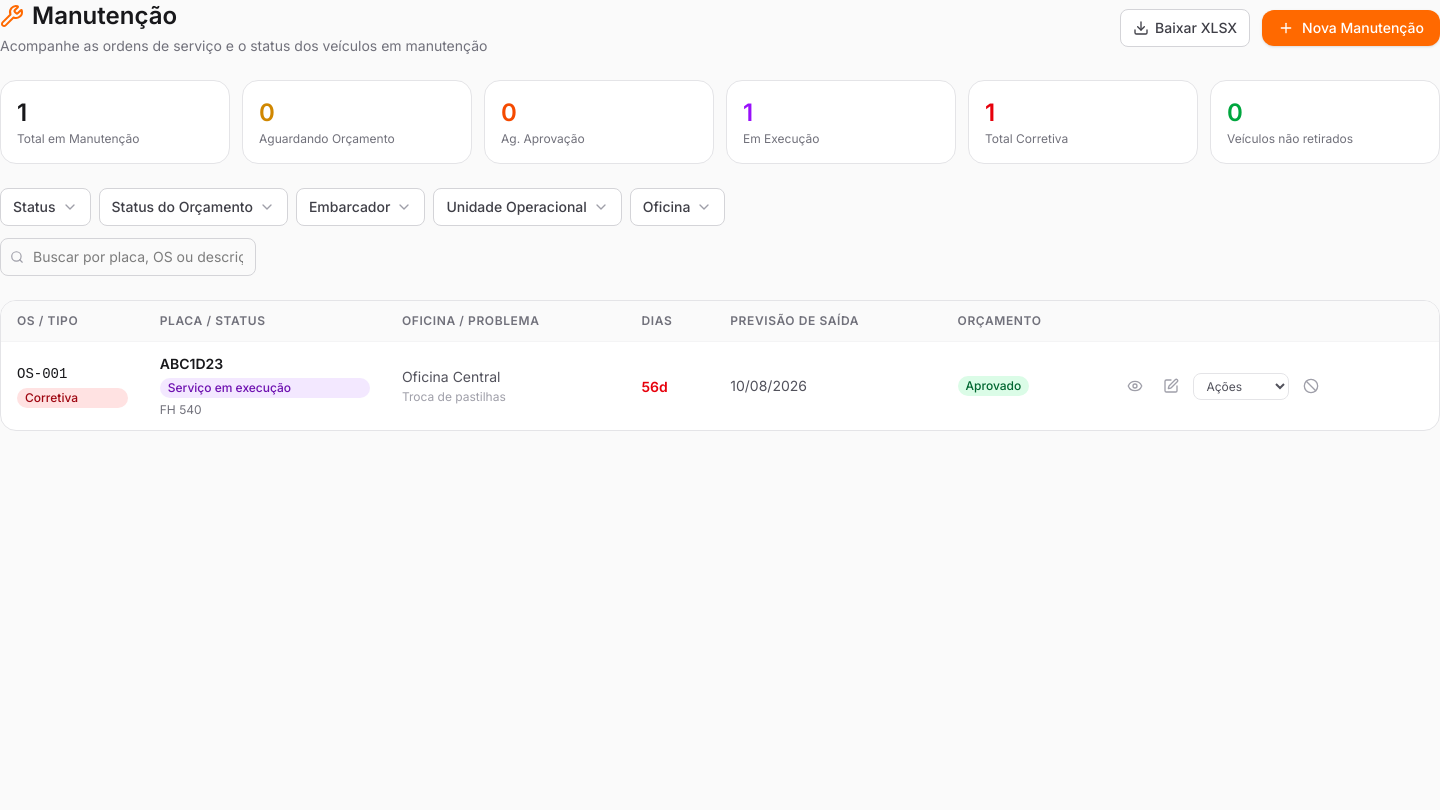
Test: Maintenance — motivo do cancelamento › a opção Cancelar do menu Ações abre o modal e não muda o status
The image size is (1440, 810).
Select "Cancelar" in the dropdown titled "Ações" at point(1242, 386), box x1=1194 y1=372 x2=1290 y2=400
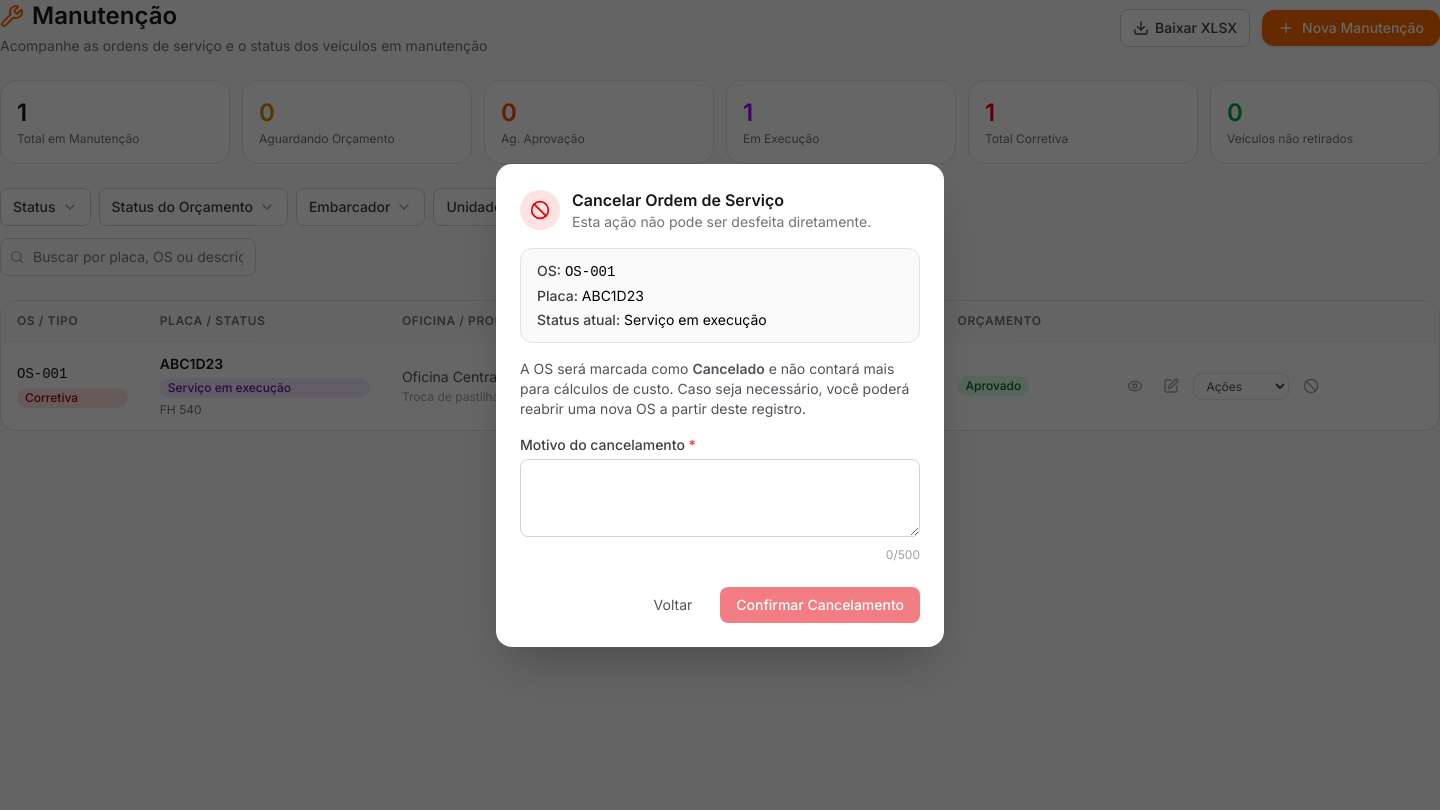
Check: the text "Cancelar Ordem de Serviço" is shown, box x1=572 y1=190 x2=784 y2=210
